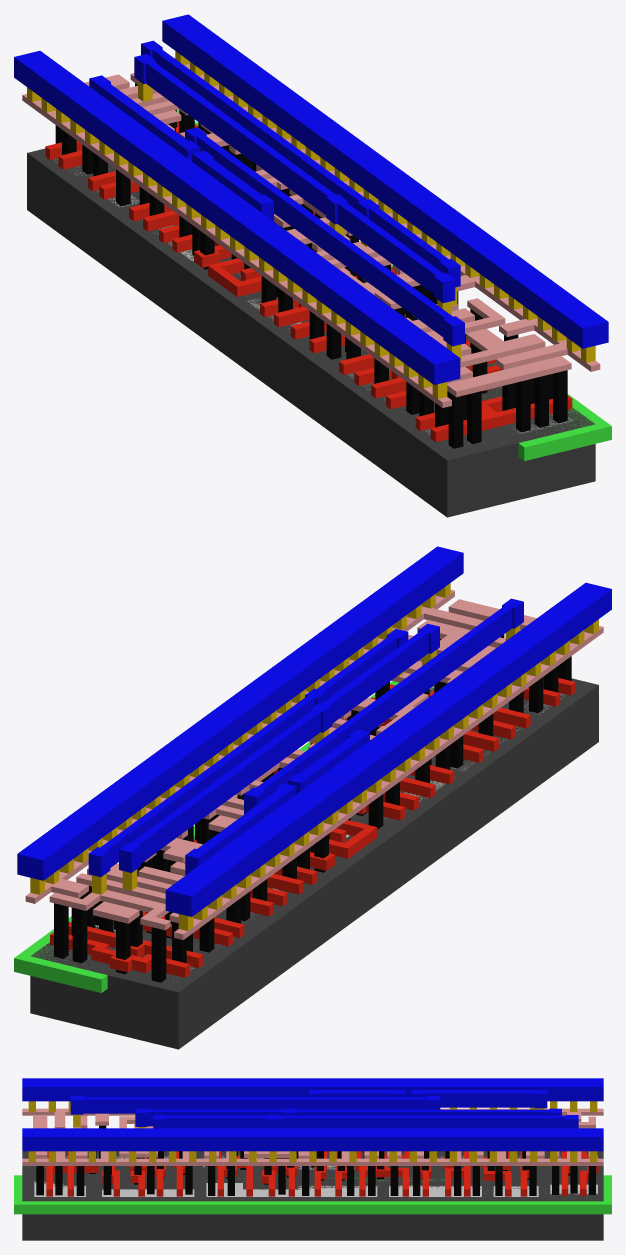
The model's file is sky130_fd_sc_hd__sedfxtp_1.obj.
The picture shows the model from 3 angles, top to bottom: view 1: azimuth 30°, elevation 25°; view 2: azimuth 150°, elevation 25°; view 3: azimuth 270°, elevation 25°; orthographic projection. The views are drawn at different scales.
Visible parts, largest first — view 1: metal1, subs, li, licon, poly, mcon, nwell; view 2: metal1, subs, li, licon, poly, mcon, nwell; view 3: metal1, subs, nwell, li, poly, licon, mcon, tap.
Part boxes in pixels (box(x1,y1,x2,y2)): metal1: box(14, 14, 608, 384); subs: box(27, 148, 595, 517); li: box(22, 57, 600, 407); licon: box(55, 83, 567, 448); poly: box(45, 121, 572, 442); mcon: box(27, 51, 595, 398); nwell: box(177, 110, 611, 460); metal1: box(17, 546, 611, 916); subs: box(30, 678, 598, 1049); li: box(25, 589, 603, 939); licon: box(54, 634, 571, 982); poly: box(50, 677, 575, 977); mcon: box(30, 583, 598, 930); nwell: box(14, 681, 432, 992); metal1: box(22, 1078, 603, 1151); subs: box(22, 1151, 603, 1240); nwell: box(14, 1175, 611, 1214); li: box(22, 1108, 603, 1165); poly: box(46, 1151, 598, 1196); licon: box(36, 1125, 596, 1195); mcon: box(28, 1101, 597, 1161); tap: box(34, 1181, 597, 1196).
Size of the model in its own units: 3.2 by 2.74 by 13.72.
